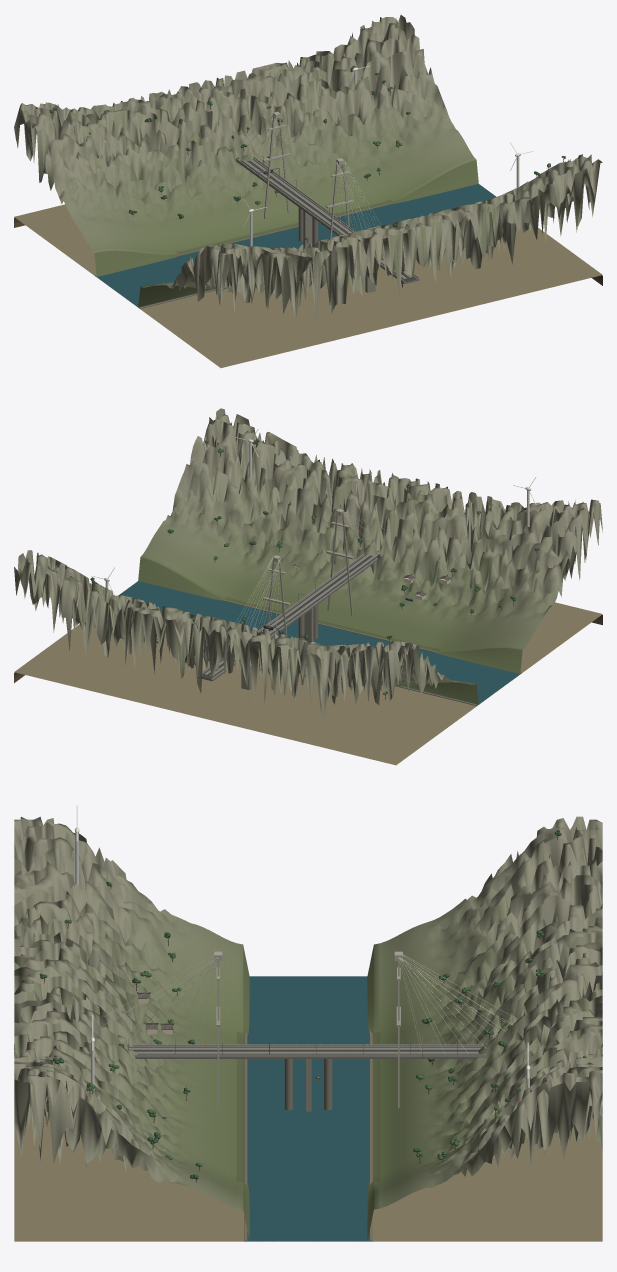
Rendered from rail_prev.glb.
The picture shows the model from 3 angles, top to bottom: view 1: azimuth 30°, elevation 25°; view 2: azimuth 150°, elevation 25°; view 3: azimuth 270°, elevation 25°; orthographic projection. The views are drawn at different scales.
Parts seen in each view (by area): view 1: RailScene_RailMatte, RailScene_Matte, Water_River, RailScene_RailConcrete, RailScene_RailSteel, RailScene_RailTree; view 2: RailScene_RailMatte, RailScene_Matte, Water_River, RailScene_RailConcrete, RailScene_RailSteel, RailScene_RailTree, RailScene_RailRock; view 3: RailScene_RailMatte, RailScene_Matte, Water_River, RailScene_RailConcrete, RailScene_RailSteel, RailScene_RailTree, RailScene_RailRock.
Part boxes in pixels (<box>): RailScene_RailMatte: <box>14,15,602,318</box>; RailScene_Matte: <box>14,204,602,367</box>; Water_River: <box>96,184,496,307</box>; RailScene_RailConcrete: <box>236,57,533,292</box>; RailScene_RailSteel: <box>232,115,412,278</box>; RailScene_RailTree: <box>49,73,565,240</box>; RailScene_RailMatte: <box>14,408,602,717</box>; RailScene_Matte: <box>14,602,602,765</box>; Water_River: <box>118,581,520,704</box>; RailScene_RailConcrete: <box>91,429,536,690</box>; RailScene_RailSteel: <box>204,512,385,675</box>; RailScene_RailTree: <box>90,439,539,694</box>; RailScene_RailRock: <box>216,598,521,705</box>; RailScene_RailMatte: <box>14,816,602,1241</box>; RailScene_Matte: <box>14,1114,602,1241</box>; Water_River: <box>247,976,369,1241</box>; RailScene_RailConcrete: <box>14,805,602,1111</box>; RailScene_RailSteel: <box>101,954,517,1058</box>; RailScene_RailTree: <box>39,829,561,1179</box>; RailScene_RailRock: <box>244,1029,372,1241</box>.
Size of the model in its own units: 320 by 123 by 300.
9 materials, 1 textured.
